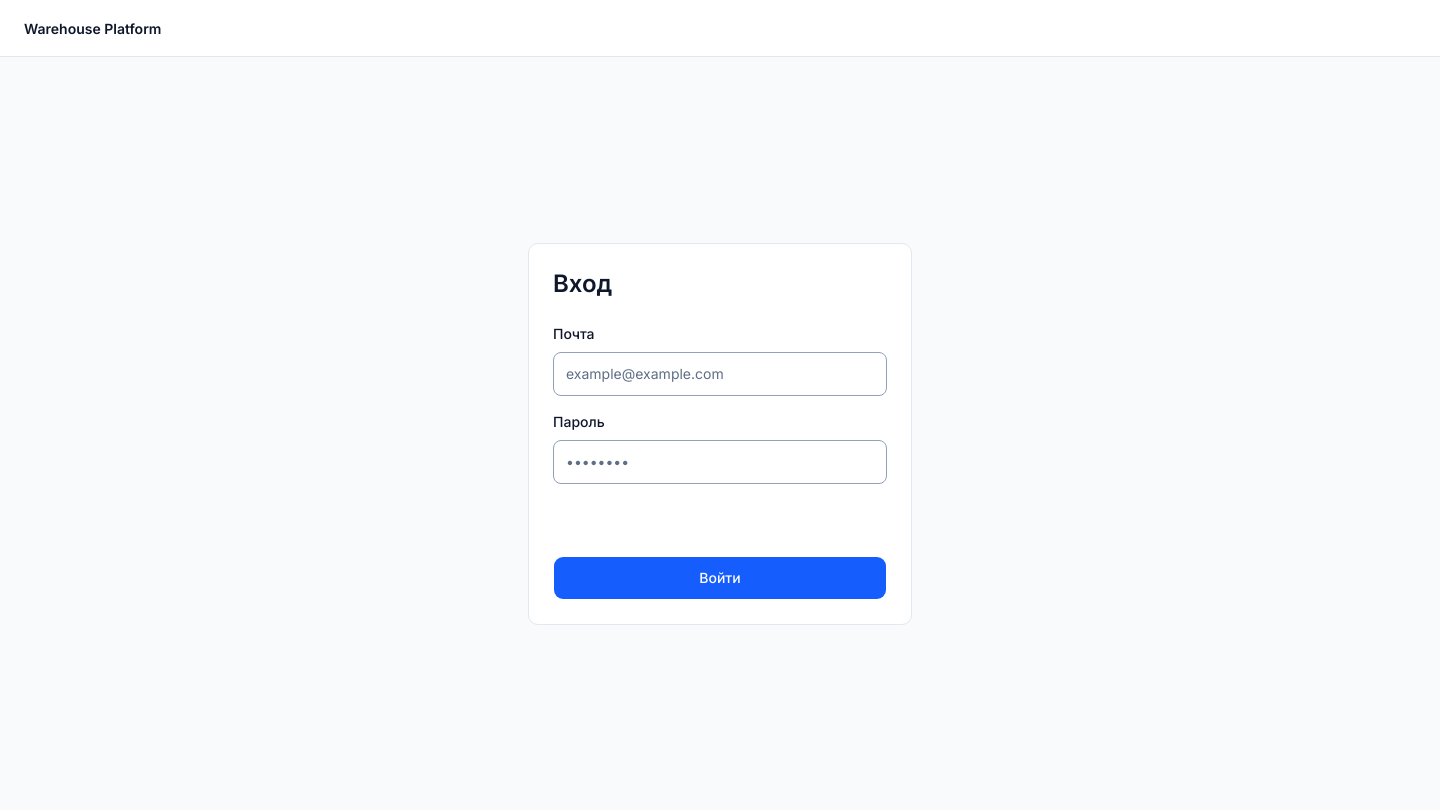
Test: LoginPage › убирает ошибку пароля после его заполнения
Click the button "Войти".
click(720, 578)  # box [553, 556, 887, 600]
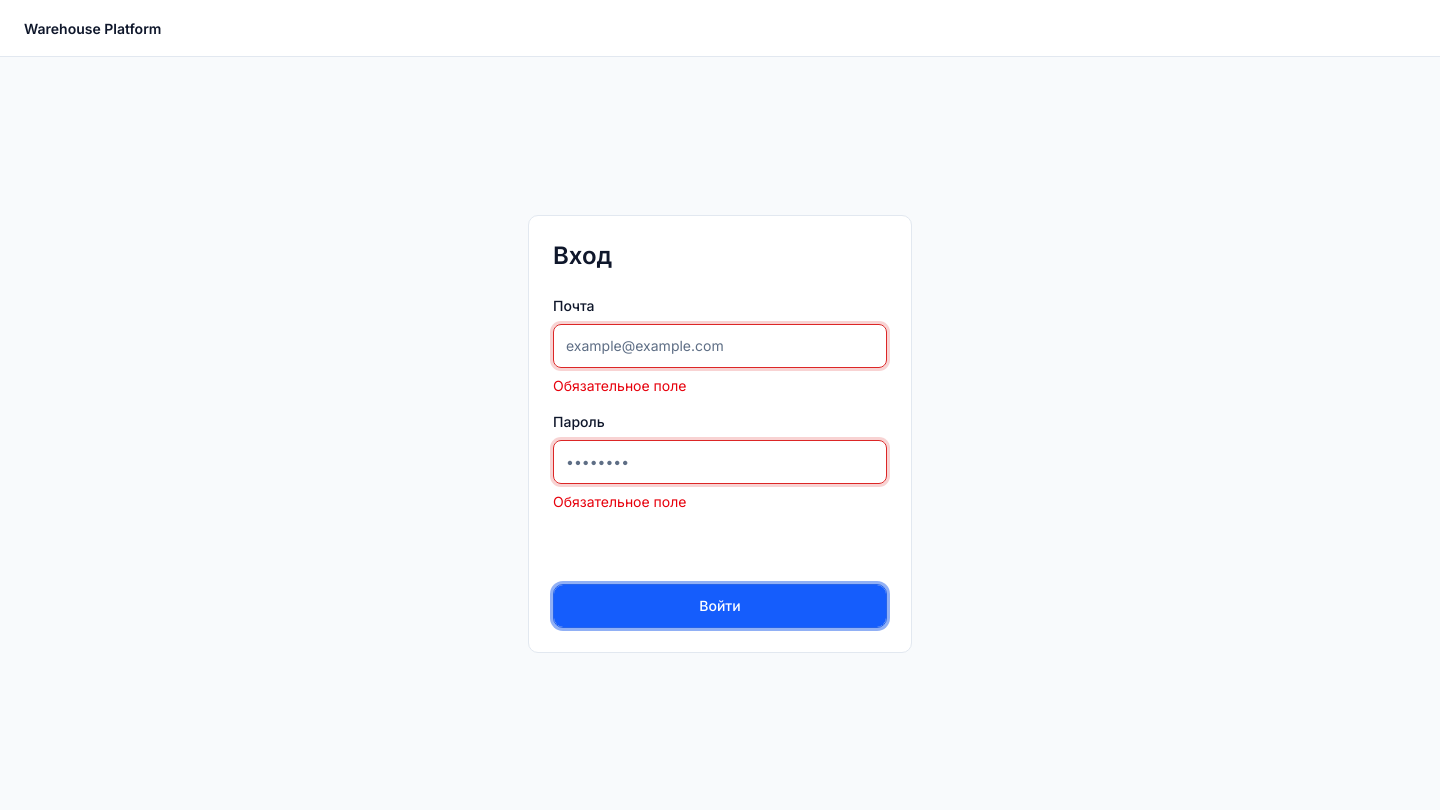
expect the text "Обязательное поле" is shown 2 times: met, box [553, 376, 686, 394]; [553, 492, 686, 510]
Type "secret" into the password field labelled "Пароль".
click(720, 462); type("secret")  # box [553, 440, 887, 484]
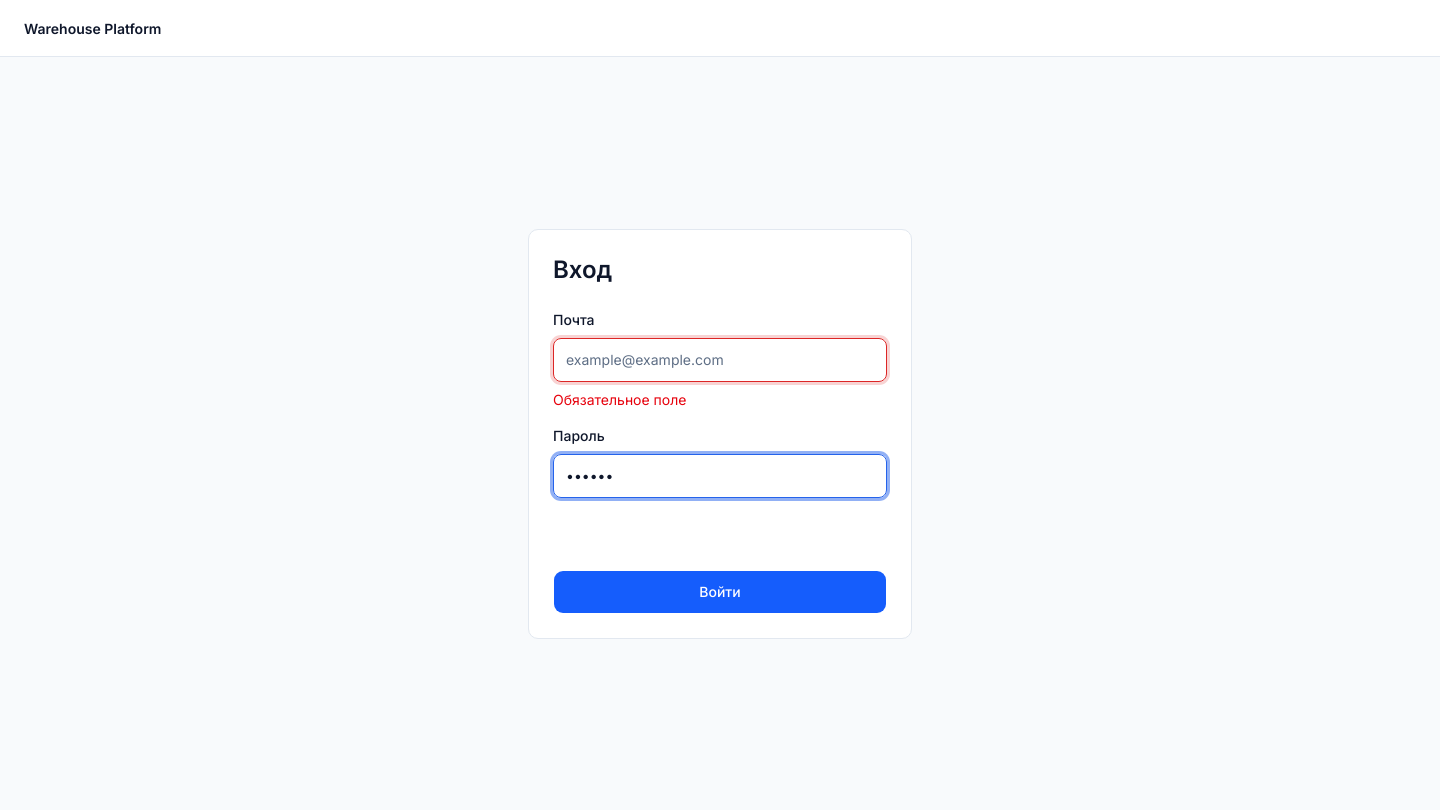
expect the password field labelled "Пароль" does not have attribute aria-invalid="true": met, box [553, 454, 887, 498]
expect the field labelled "Почта" is marked as invalid: met, box [553, 338, 887, 382]
